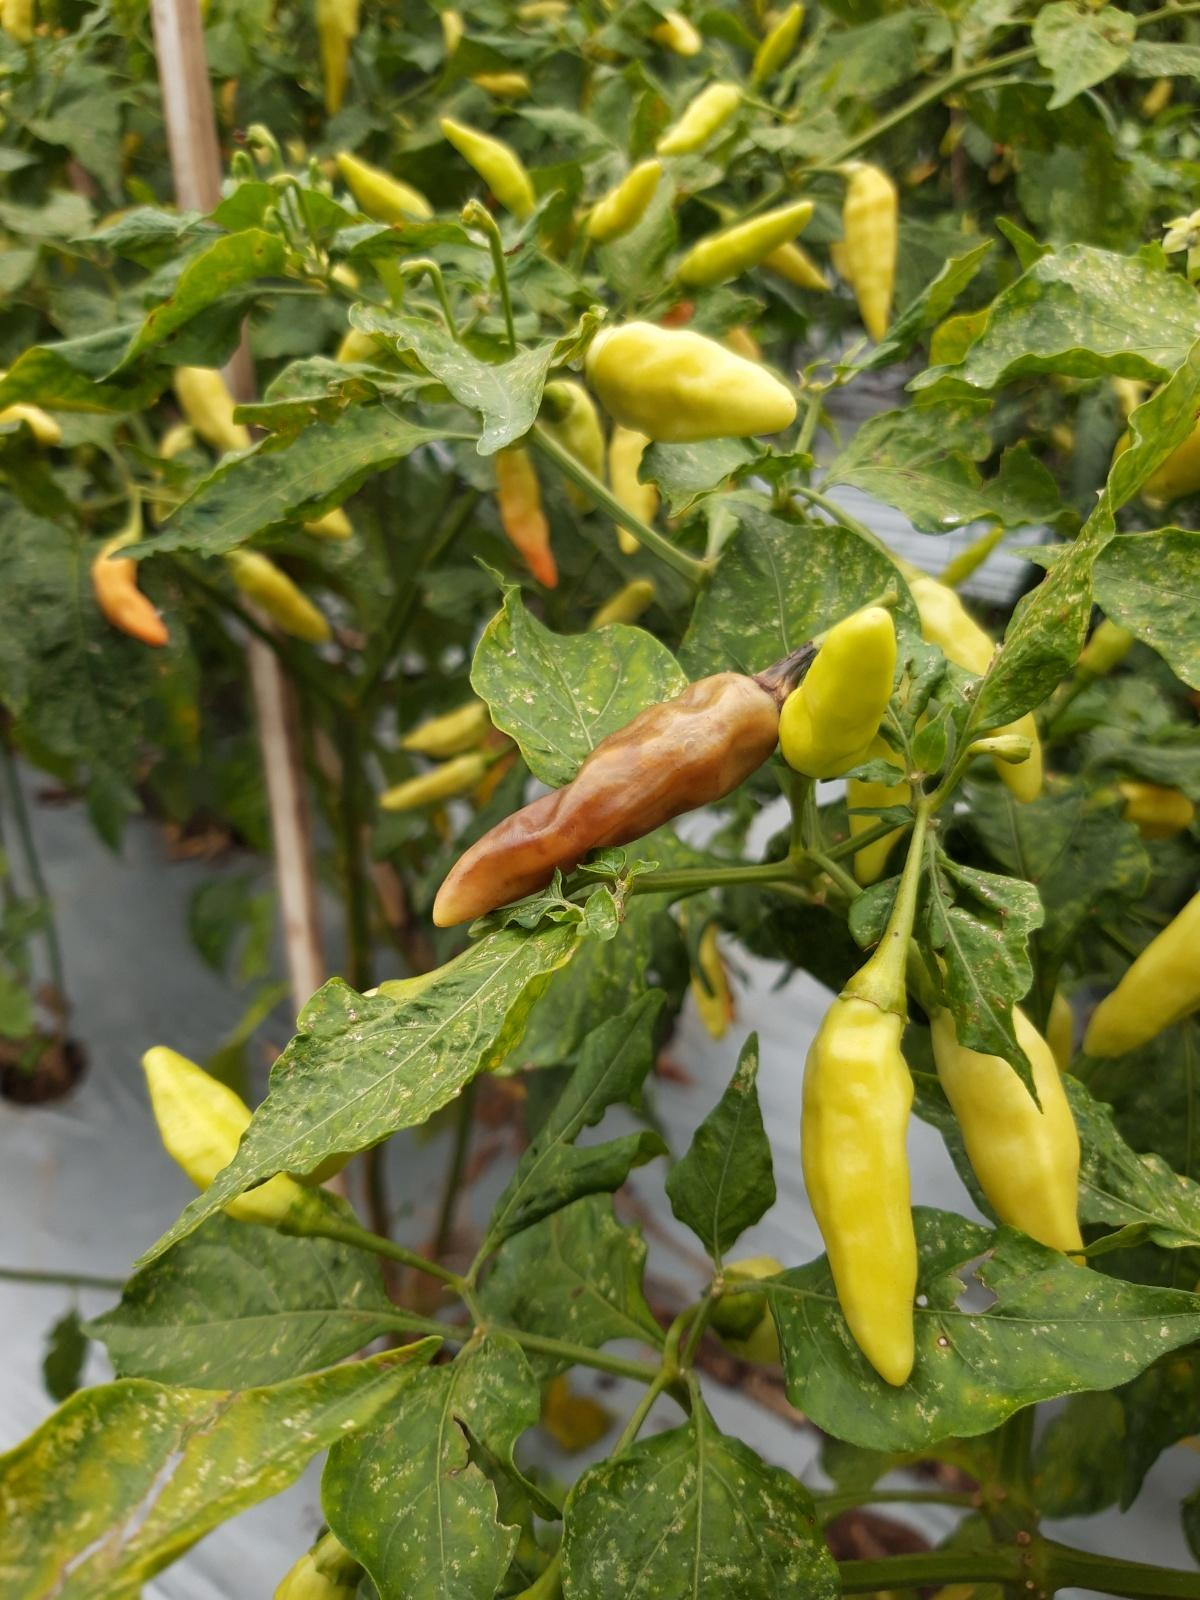cabai_normal: (800, 961, 926, 1390), (928, 1004, 1090, 1265), (144, 1046, 329, 1241), (582, 320, 798, 438), (779, 605, 899, 780), (679, 202, 813, 291), (841, 161, 900, 345), (223, 548, 334, 645), (440, 116, 537, 223), (89, 530, 169, 648), (495, 446, 560, 587), (335, 152, 437, 227), (176, 360, 251, 455), (584, 159, 666, 241), (382, 753, 492, 814), (657, 82, 744, 156), (750, 4, 805, 89), (400, 699, 489, 752)
lalat_buah: (429, 671, 785, 927)
